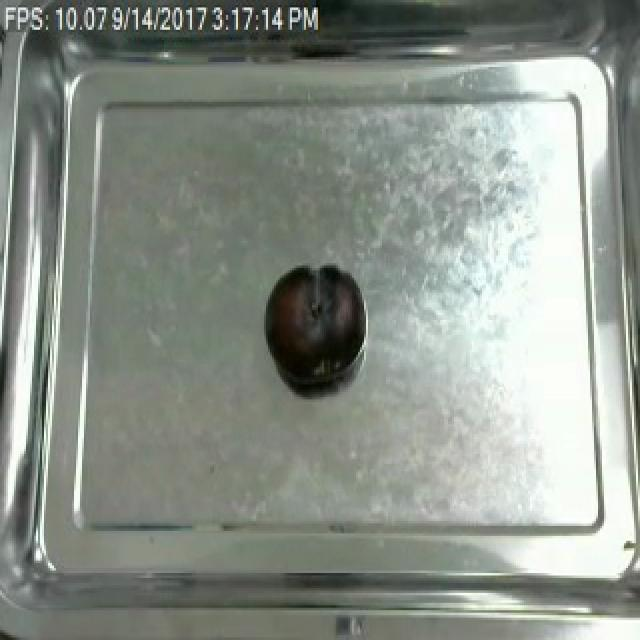Fruit: (258, 260, 362, 382)
